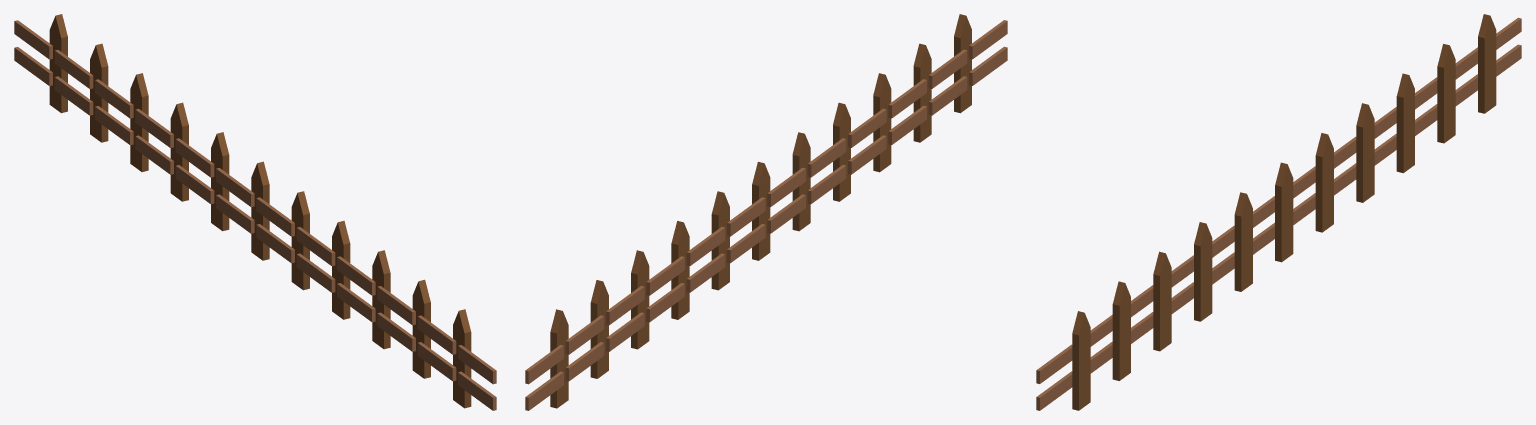
File: wallR.glb
The picture shows the model from 3 angles, left to right: view 1: azimuth 30°, elevation 25°; view 2: azimuth 150°, elevation 25°; view 3: azimuth 330°, elevation 25°; orthographic projection.
Parts seen in each view (by area): view 1: Plane.020, Plane.003, Plane.029, Plane.027, Plane.012, Plane.035, Plane.006, Plane.015, Plane.047, Plane.009, Plane.036, Plane.032 (+23 smaller); view 2: Plane.029, Plane.003, Plane.020, Plane.012, Plane.035, Plane.036, Plane.009, Plane.047, Plane.015, Plane.006, Plane.027, Plane.010 (+23 smaller); view 3: Plane.009, Plane.029, Plane.006, Plane.015, Plane.020, Plane.027, Plane.035, Plane.047, Plane.003, Plane.012, Plane.036, Plane.026 (+3 smaller).
Part boxes in pixels (x1,y1,x2,y2): Plane.020: (251, 161, 269, 260); Plane.003: (372, 250, 390, 349); Plane.029: (130, 73, 148, 171); Plane.027: (453, 309, 471, 408); Plane.012: (170, 102, 188, 201); Plane.035: (412, 279, 430, 378); Plane.006: (332, 220, 350, 319); Plane.015: (291, 191, 309, 290); Plane.047: (90, 43, 108, 142); Plane.009: (211, 132, 229, 231); Plane.036: (49, 14, 67, 113); Plane.032: (417, 315, 456, 354); Plane.029: (631, 250, 649, 349); Plane.003: (873, 73, 891, 172); Plane.020: (752, 161, 770, 260); Plane.012: (671, 221, 689, 319); Plane.035: (913, 43, 931, 142); Plane.036: (550, 309, 568, 408); Plane.009: (711, 191, 729, 290); Plane.047: (590, 280, 608, 378); Plane.015: (792, 132, 810, 231); Plane.006: (833, 102, 850, 201); Plane.027: (954, 14, 971, 113); Plane.010: (686, 253, 725, 292); Plane.009: (1315, 133, 1333, 232); Plane.029: (1396, 73, 1414, 173); Plane.006: (1194, 222, 1212, 321); Plane.015: (1234, 192, 1252, 291); Plane.020: (1275, 162, 1293, 262); Plane.027: (1072, 311, 1090, 410); Plane.035: (1112, 281, 1130, 380); Plane.047: (1437, 44, 1455, 143); Plane.003: (1153, 251, 1171, 351); Plane.012: (1356, 103, 1374, 202); Plane.036: (1478, 14, 1496, 113); Plane.026: (1036, 344, 1072, 383).
Bounding box in the file's own units: 0.1458 × 1.28 × 11.87.
